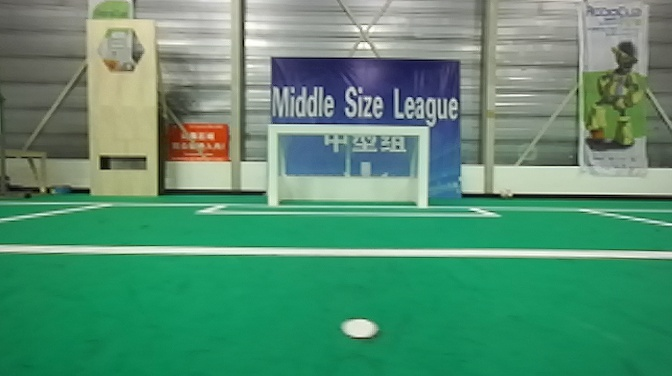goalpost: (411, 119, 431, 219), (264, 118, 284, 210)
